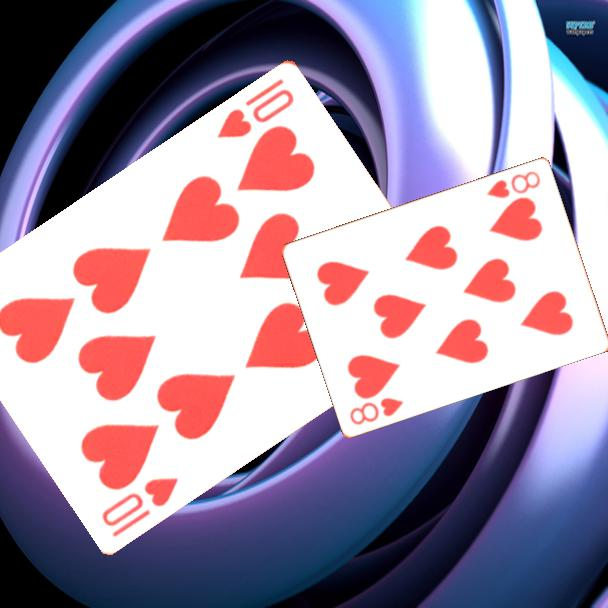h08: (346, 394, 407, 428), (483, 167, 543, 201)
h10: (213, 74, 298, 141), (98, 473, 181, 539)
